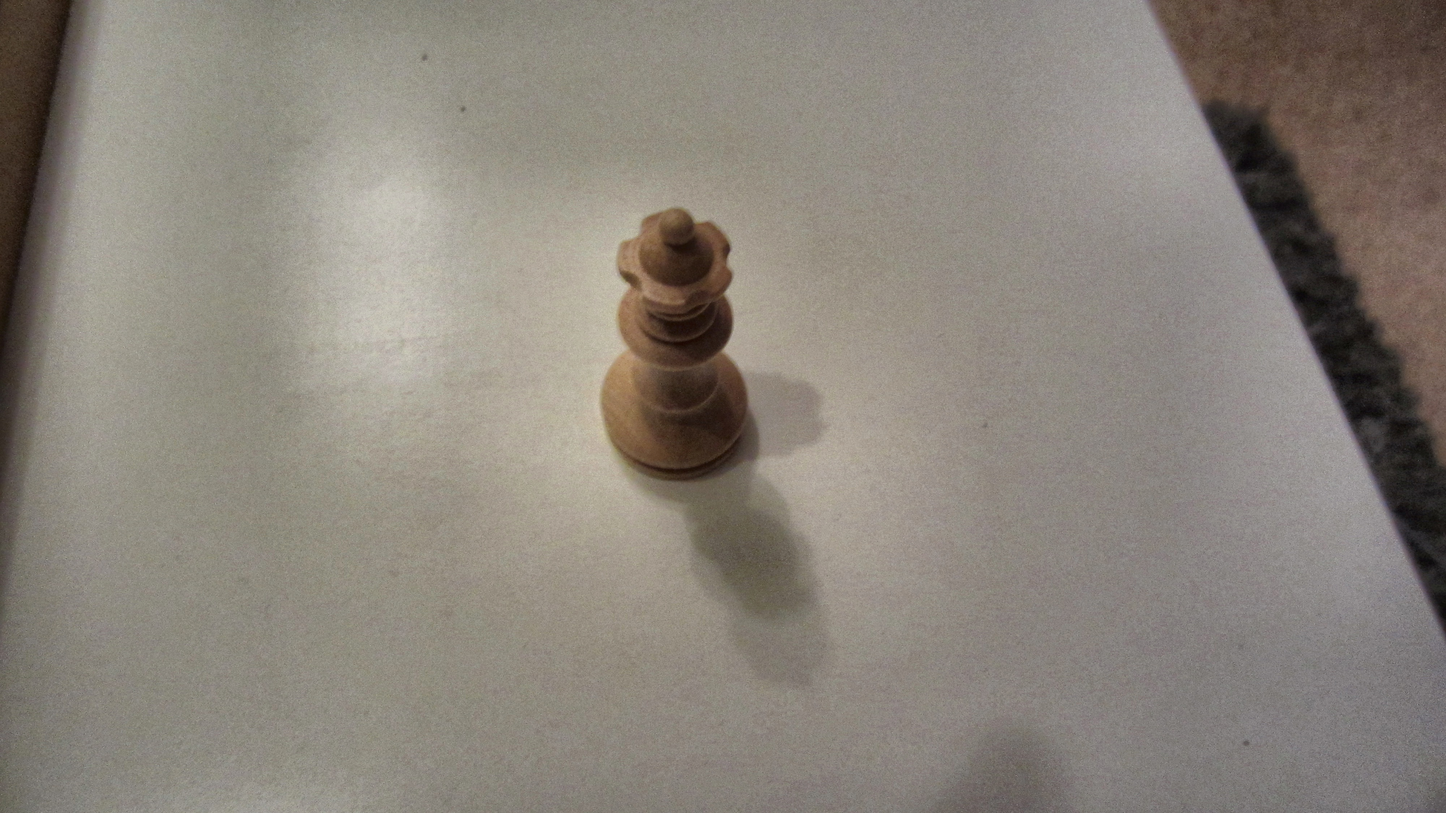white-queen: (594, 199, 754, 487)
